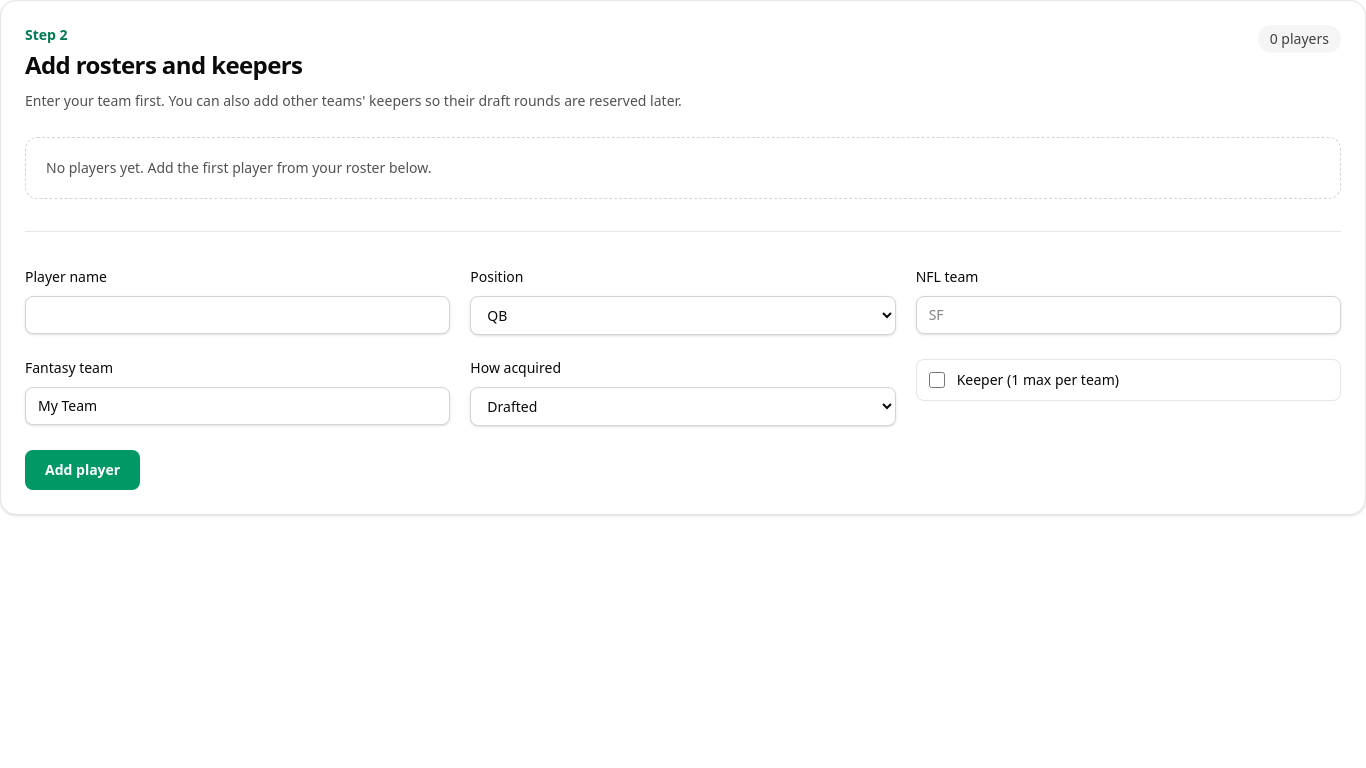
Test case: RosterSetupPanel › supports manual player and keeper setup
Expected: the field labelled "Player name" is shown, [25,296,450,334]
Expected: the field labelled "Fantasy team" holds "My Team", [25,387,450,425]
What coordinates should you click on to do the following:
click the checkbox labelled "Keeper (1 max per team)"
I would click on:
 (937, 380)
Its box is [929,372,945,388].
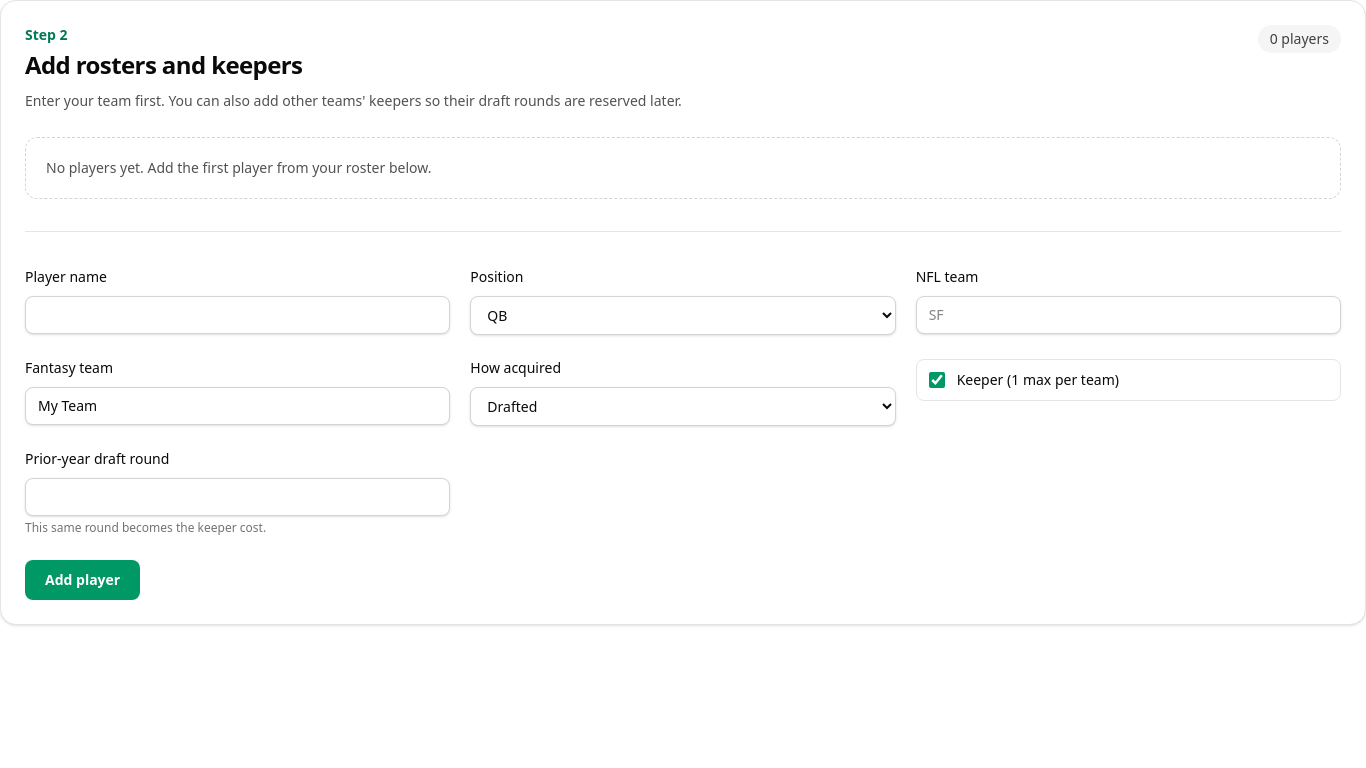
Expected: the number field labelled "Prior-year draft round" is shown, [25,478,450,516]
Expected: the text "This same round becomes the keeper cost." is shown, [25,519,266,536]
